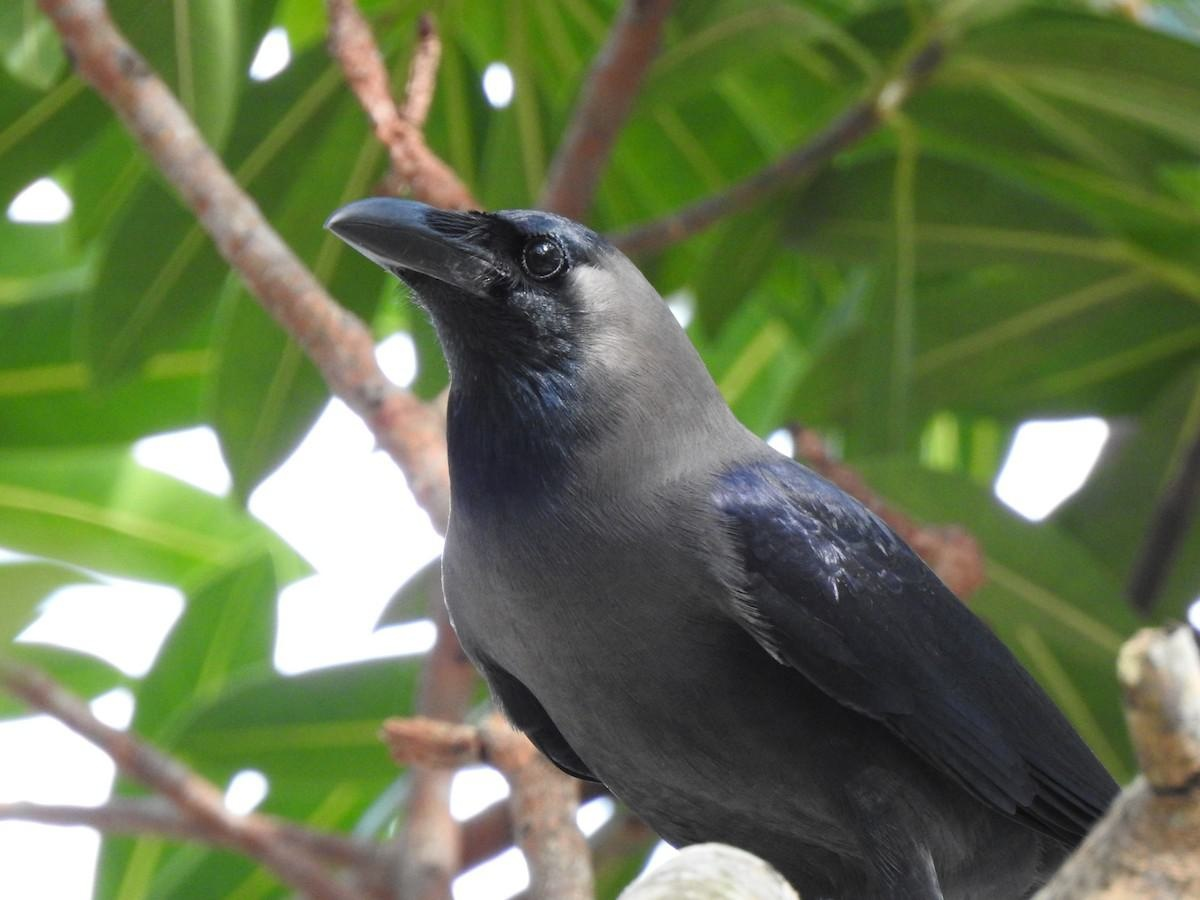crow: (316, 187, 1097, 870)
